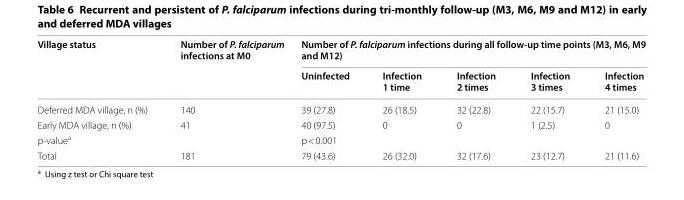table: (36, 37, 645, 160)
table column: (163, 37, 292, 160), (36, 37, 163, 160), (438, 37, 512, 160), (512, 37, 586, 160), (292, 37, 365, 160), (365, 37, 438, 160), (586, 37, 645, 160)
table column header: (36, 37, 645, 97)
table row: (36, 64, 645, 97), (36, 37, 645, 64), (36, 97, 645, 116), (36, 131, 645, 147), (36, 116, 645, 131), (36, 147, 645, 160)
table spanning cell: (292, 37, 645, 64), (163, 37, 292, 97), (36, 37, 163, 97)
